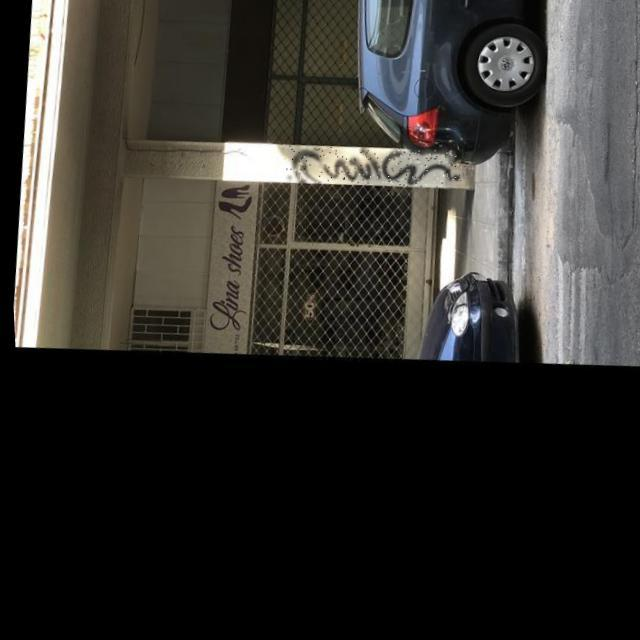-: (282, 140, 462, 204)
